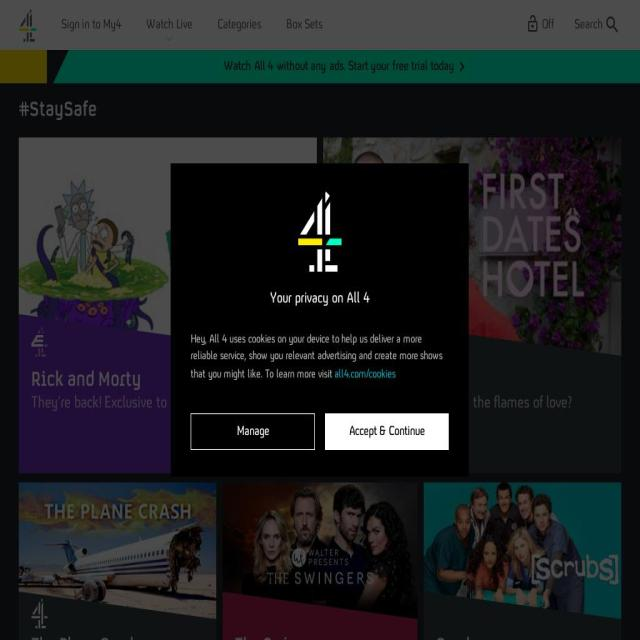button: (0, 50, 640, 83), (324, 413, 450, 450), (191, 413, 315, 450), (55, 0, 128, 50), (567, 0, 627, 50), (140, 0, 199, 50), (210, 0, 268, 50), (280, 0, 330, 50), (520, 0, 560, 50), (12, 0, 42, 50), (332, 364, 397, 384)
heading: (19, 100, 440, 120), (336, 370, 460, 391), (31, 370, 141, 391), (31, 636, 138, 640), (235, 636, 326, 640), (436, 636, 482, 640)
image: (69, 50, 640, 83), (289, 192, 350, 272), (0, 50, 48, 83), (19, 8, 36, 42), (32, 598, 48, 630), (32, 327, 48, 358), (336, 327, 352, 358), (454, 56, 469, 76)
text: (191, 333, 443, 380), (224, 50, 454, 83), (190, 287, 450, 310), (336, 395, 572, 412), (31, 395, 238, 412), (334, 422, 440, 442), (201, 422, 305, 442), (61, 18, 122, 32), (146, 18, 192, 32), (217, 18, 261, 32), (286, 18, 323, 32), (574, 18, 602, 32), (542, 18, 554, 32)
